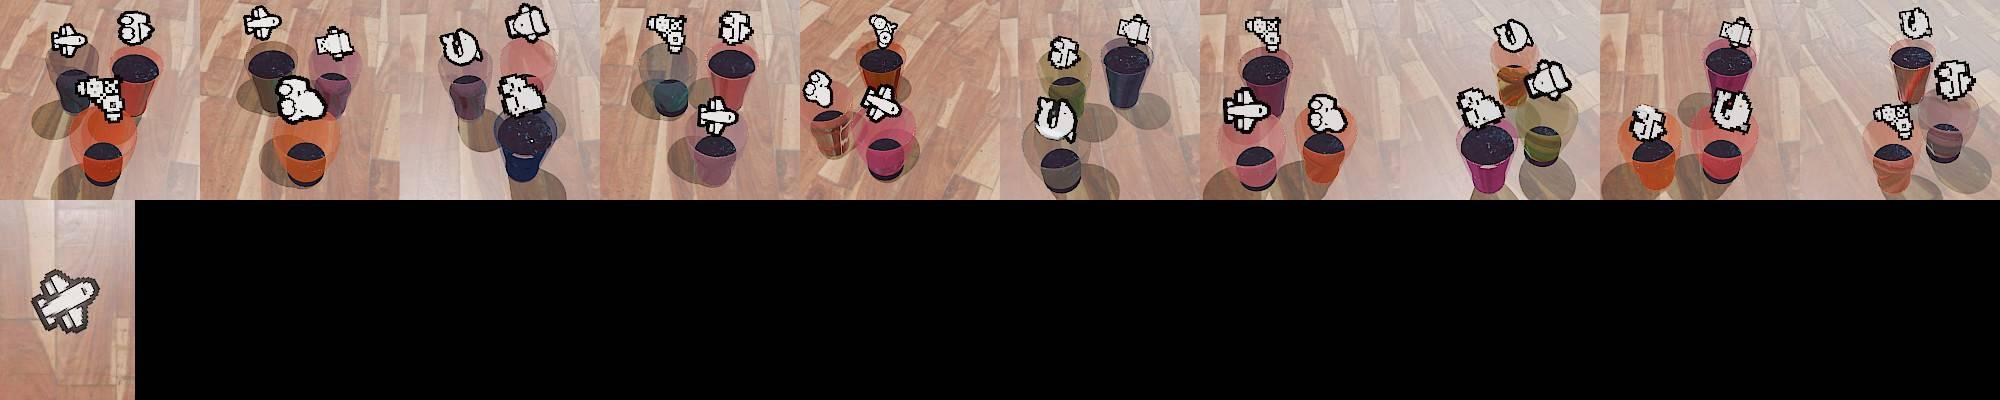icon: (29, 268, 99, 335), (75, 74, 126, 120), (496, 71, 547, 117), (274, 76, 325, 122), (1222, 85, 1270, 132), (1034, 93, 1078, 144), (1524, 57, 1574, 101), (1708, 88, 1754, 134), (1457, 87, 1506, 129), (1931, 59, 1977, 102), (504, 3, 550, 43), (437, 27, 485, 66), (695, 93, 739, 135), (1305, 92, 1347, 135), (645, 13, 689, 55), (1872, 99, 1917, 139), (861, 83, 902, 122), (1629, 102, 1668, 143), (1245, 15, 1283, 54), (1492, 18, 1533, 54), (314, 25, 356, 60), (717, 9, 755, 46), (242, 5, 282, 41), (1046, 33, 1082, 71), (116, 10, 154, 46), (51, 23, 88, 59), (1898, 6, 1932, 41), (1117, 13, 1151, 48), (869, 14, 902, 50), (802, 69, 833, 107), (1718, 18, 1755, 48)
